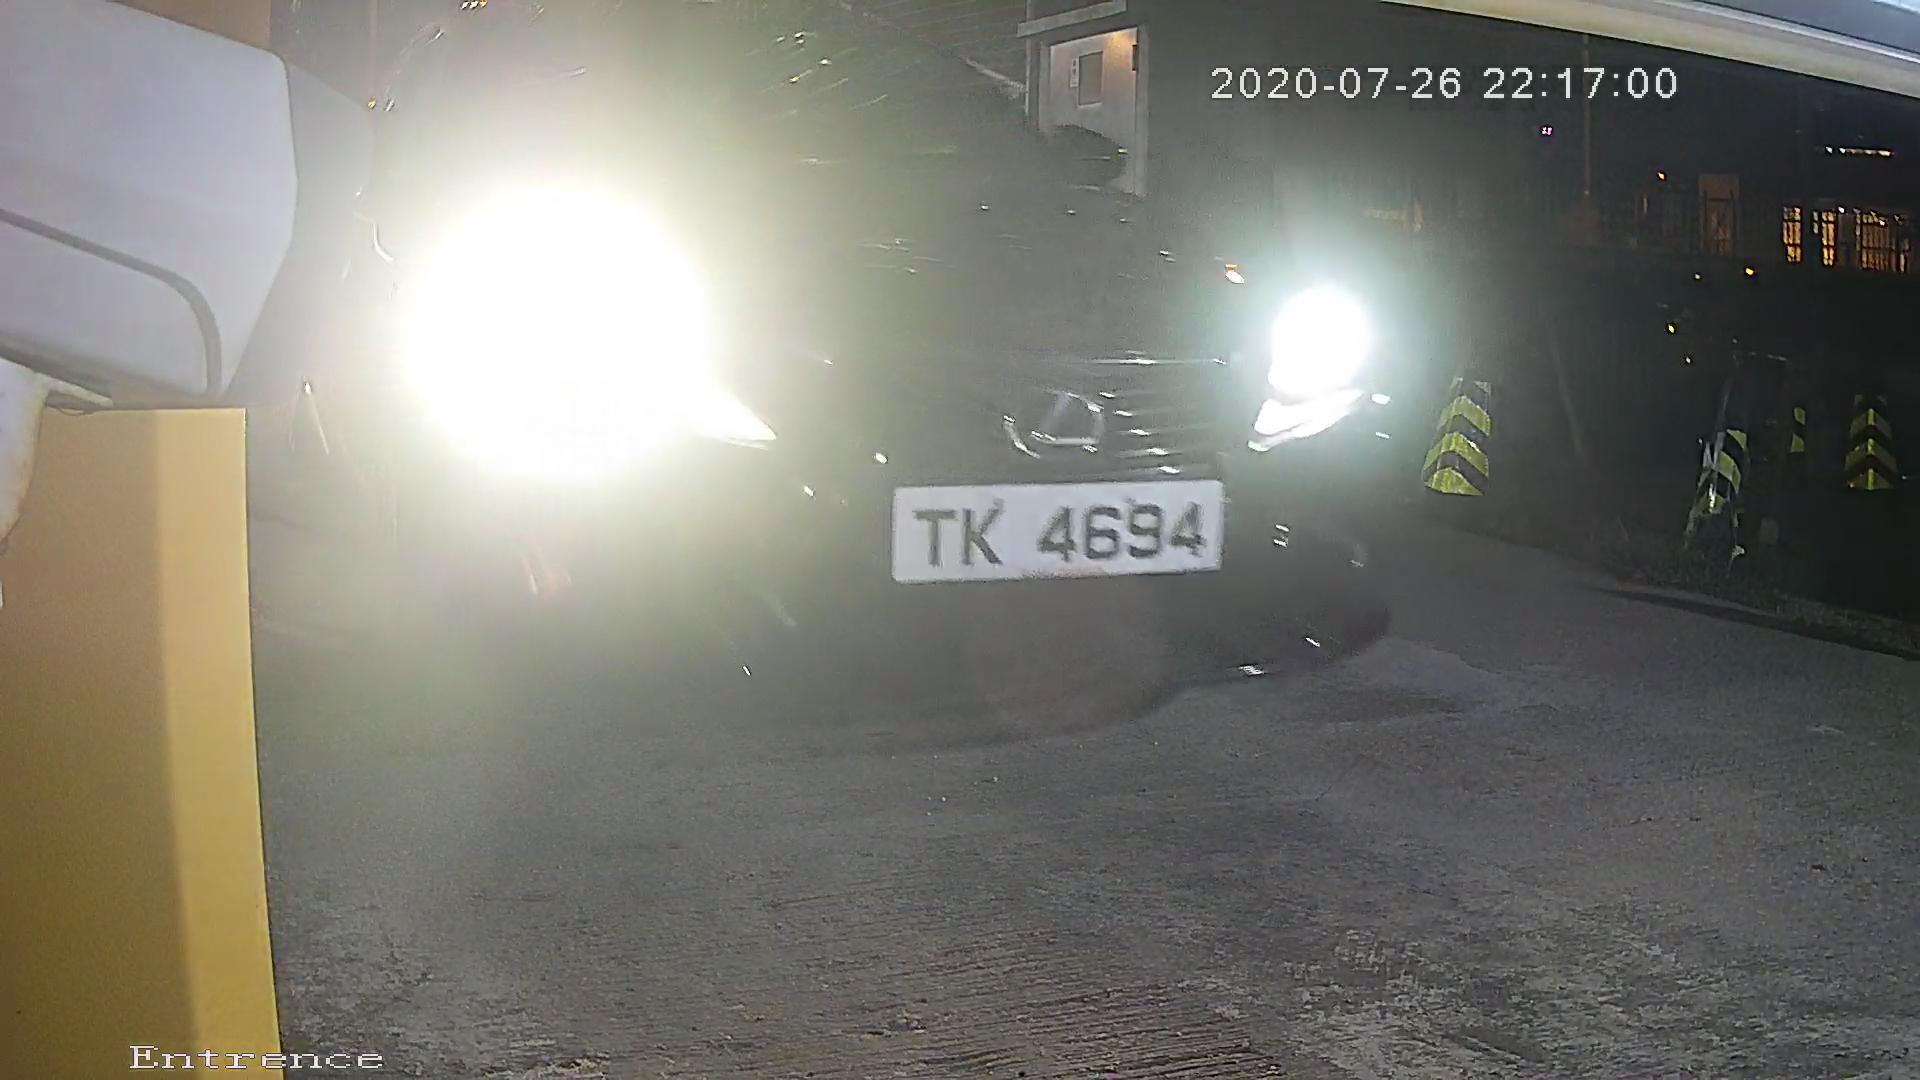Car: (43, 63, 1655, 782)
License Plate: (832, 459, 1252, 594)
